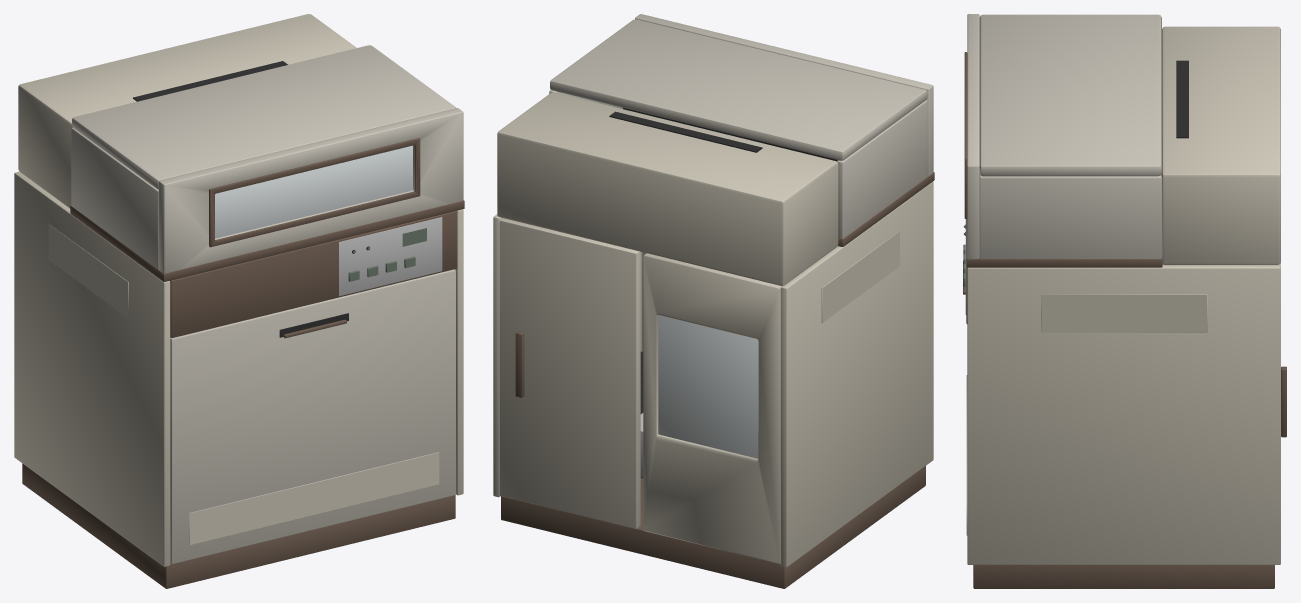
The model's file is Kit_LinePrinter_Off.fbx.
3 views of the same model, side by side, from view 1: azimuth 30°, elevation 25°; view 2: azimuth 150°, elevation 25°; view 3: azimuth 270°, elevation 25° (orthographic). The views are drawn at different scales.
Parts seen in each view (by area): view 1: Kit_LinePrinter_LOD0; view 2: Kit_LinePrinter_LOD0; view 3: Kit_LinePrinter_LOD0.
Part boxes in pixels (x1,y1,x2,y2): Kit_LinePrinter_LOD0: (14, 14, 464, 588); Kit_LinePrinter_LOD0: (493, 14, 934, 588); Kit_LinePrinter_LOD0: (963, 14, 1286, 588).
Size of what is drawn, in the model's own units: 0.874 by 1.13 by 0.779.
